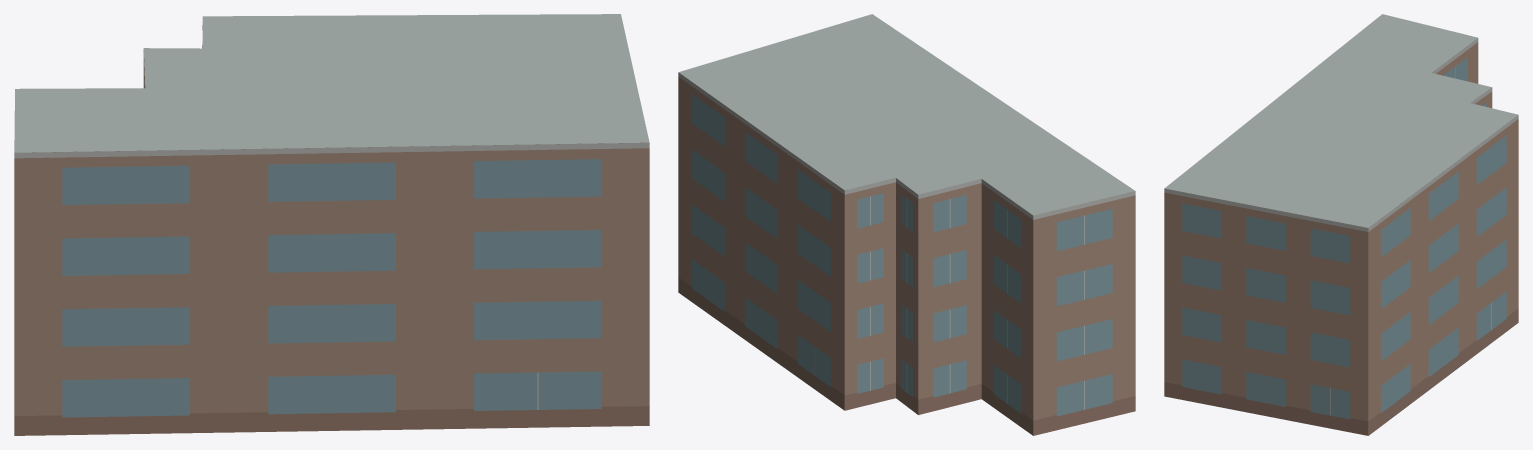
The model's file is survey-upis-32771978.glb.
3 views of the same model, side by side, from view 1: azimuth 30°, elevation 25°; view 2: azimuth 150°, elevation 25°; view 3: azimuth 270°, elevation 25° (orthographic). The views are drawn at different scales.
Visible parts, largest first — view 1: survey-upis-32771978.tmp; view 2: survey-upis-32771978.tmp; view 3: survey-upis-32771978.tmp.
Boxes of the visible parts, <box> form: survey-upis-32771978.tmp: <box>14,14,649,435</box>; survey-upis-32771978.tmp: <box>678,14,1135,435</box>; survey-upis-32771978.tmp: <box>1164,14,1518,435</box>.
Size of the model in its own units: 27.37 by 12.4 by 19.16.
